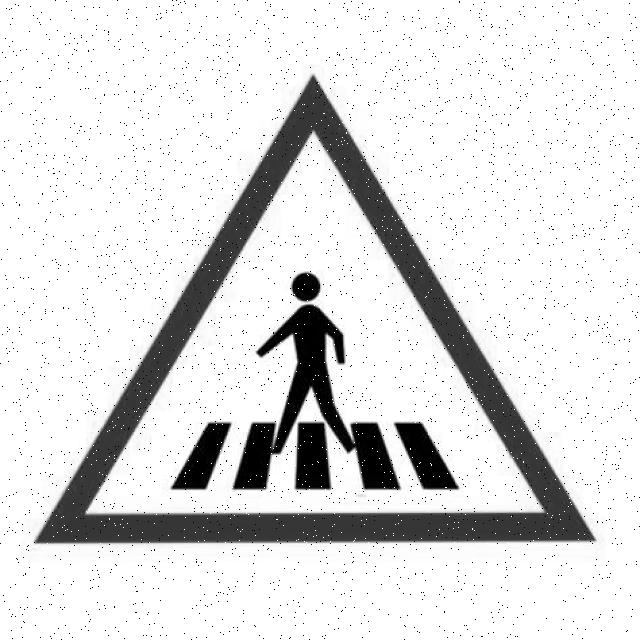Pedestrain_crossing: (33, 72, 586, 545)
